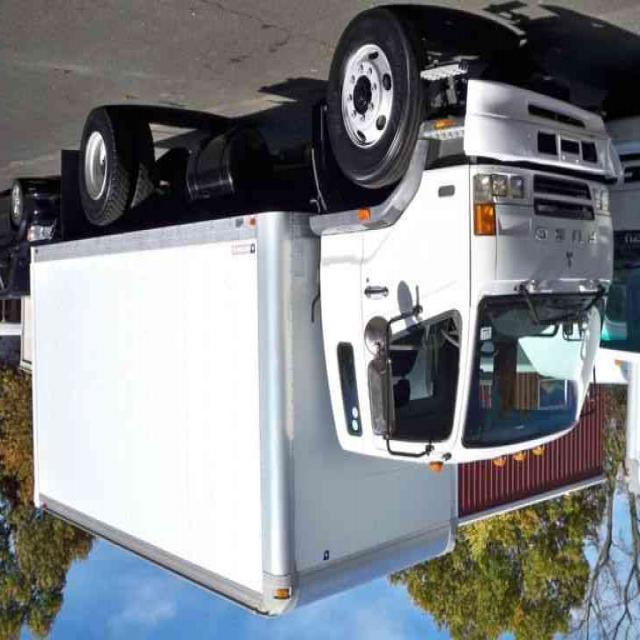truck: (33, 15, 624, 618)
